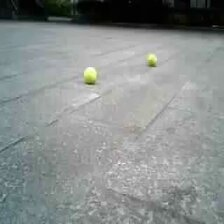tennis: (84, 67, 96, 81), (148, 54, 158, 66)
